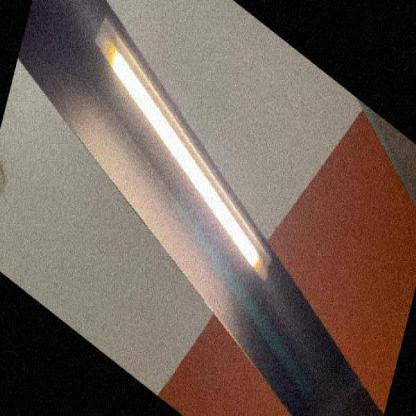light_on: (61, 0, 308, 307)
